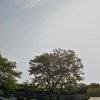Tree: (23, 38, 87, 95)
